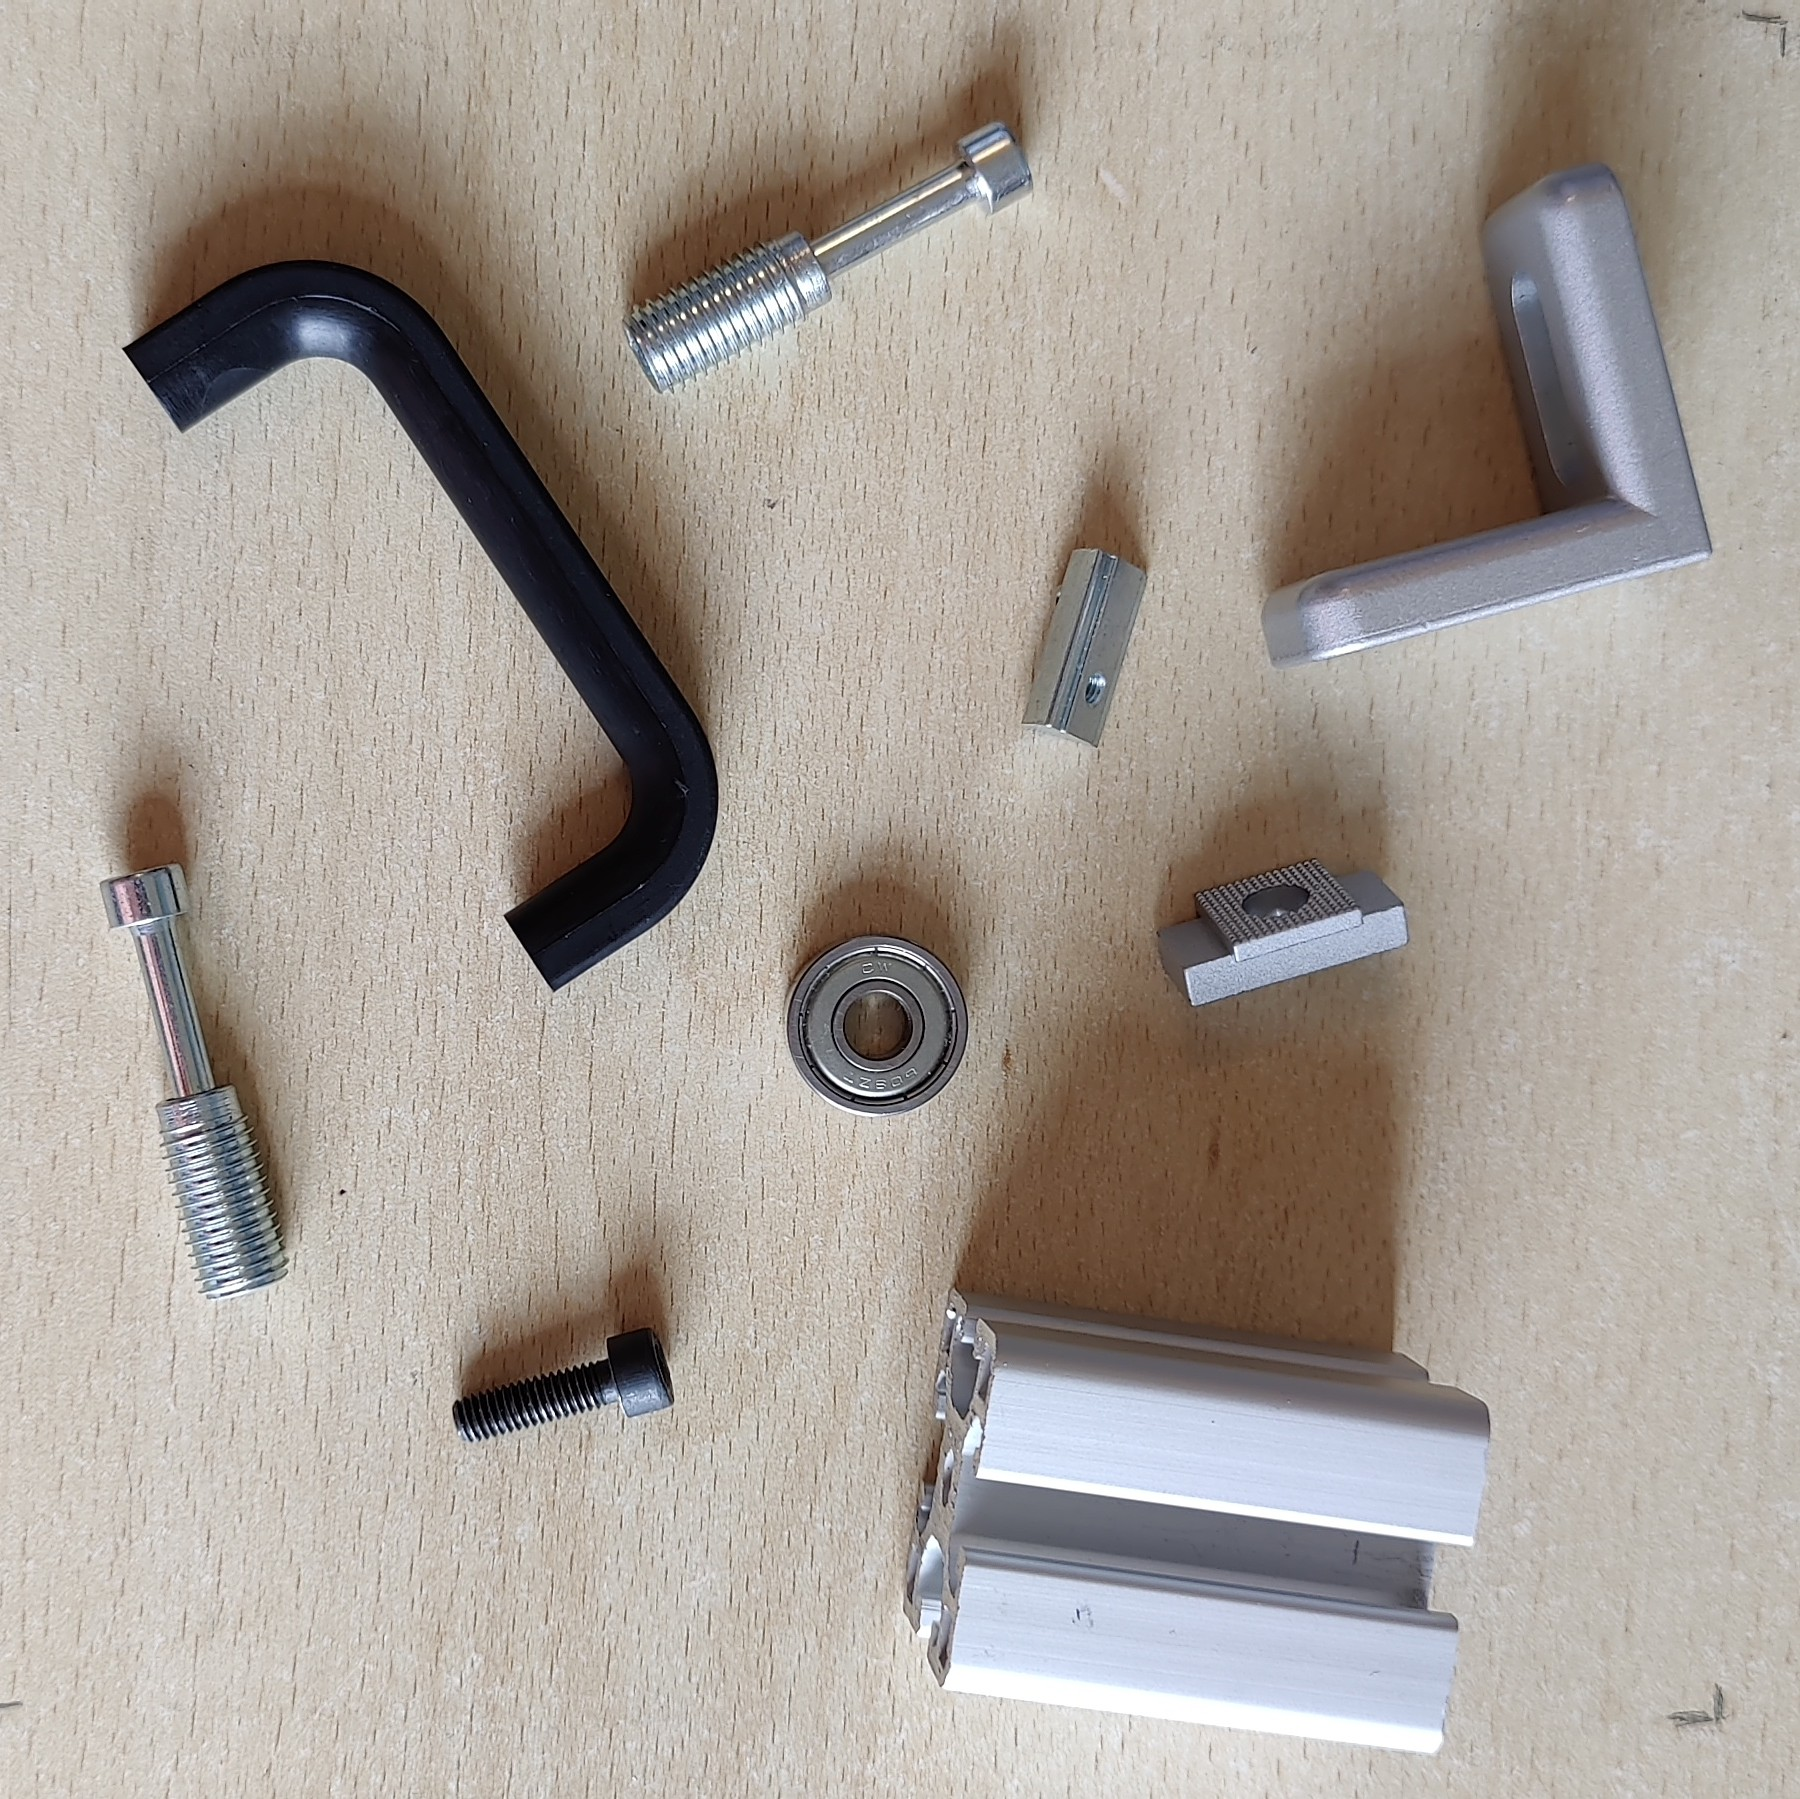Aluminium Extension: (902, 1277, 1494, 1761)
Ball Bearing: (786, 931, 970, 1119)
Multiwinkel: (1258, 158, 1718, 672)
Pull Handle: (119, 257, 721, 997)
Shoulder Socket Head Cap Screw: (619, 119, 1038, 395), (96, 857, 295, 1306)
Socket Head Cap Screw: (451, 1321, 678, 1446)
T Nut Square: (1154, 852, 1411, 1013)
T Spring Nut: (1016, 544, 1149, 753)
